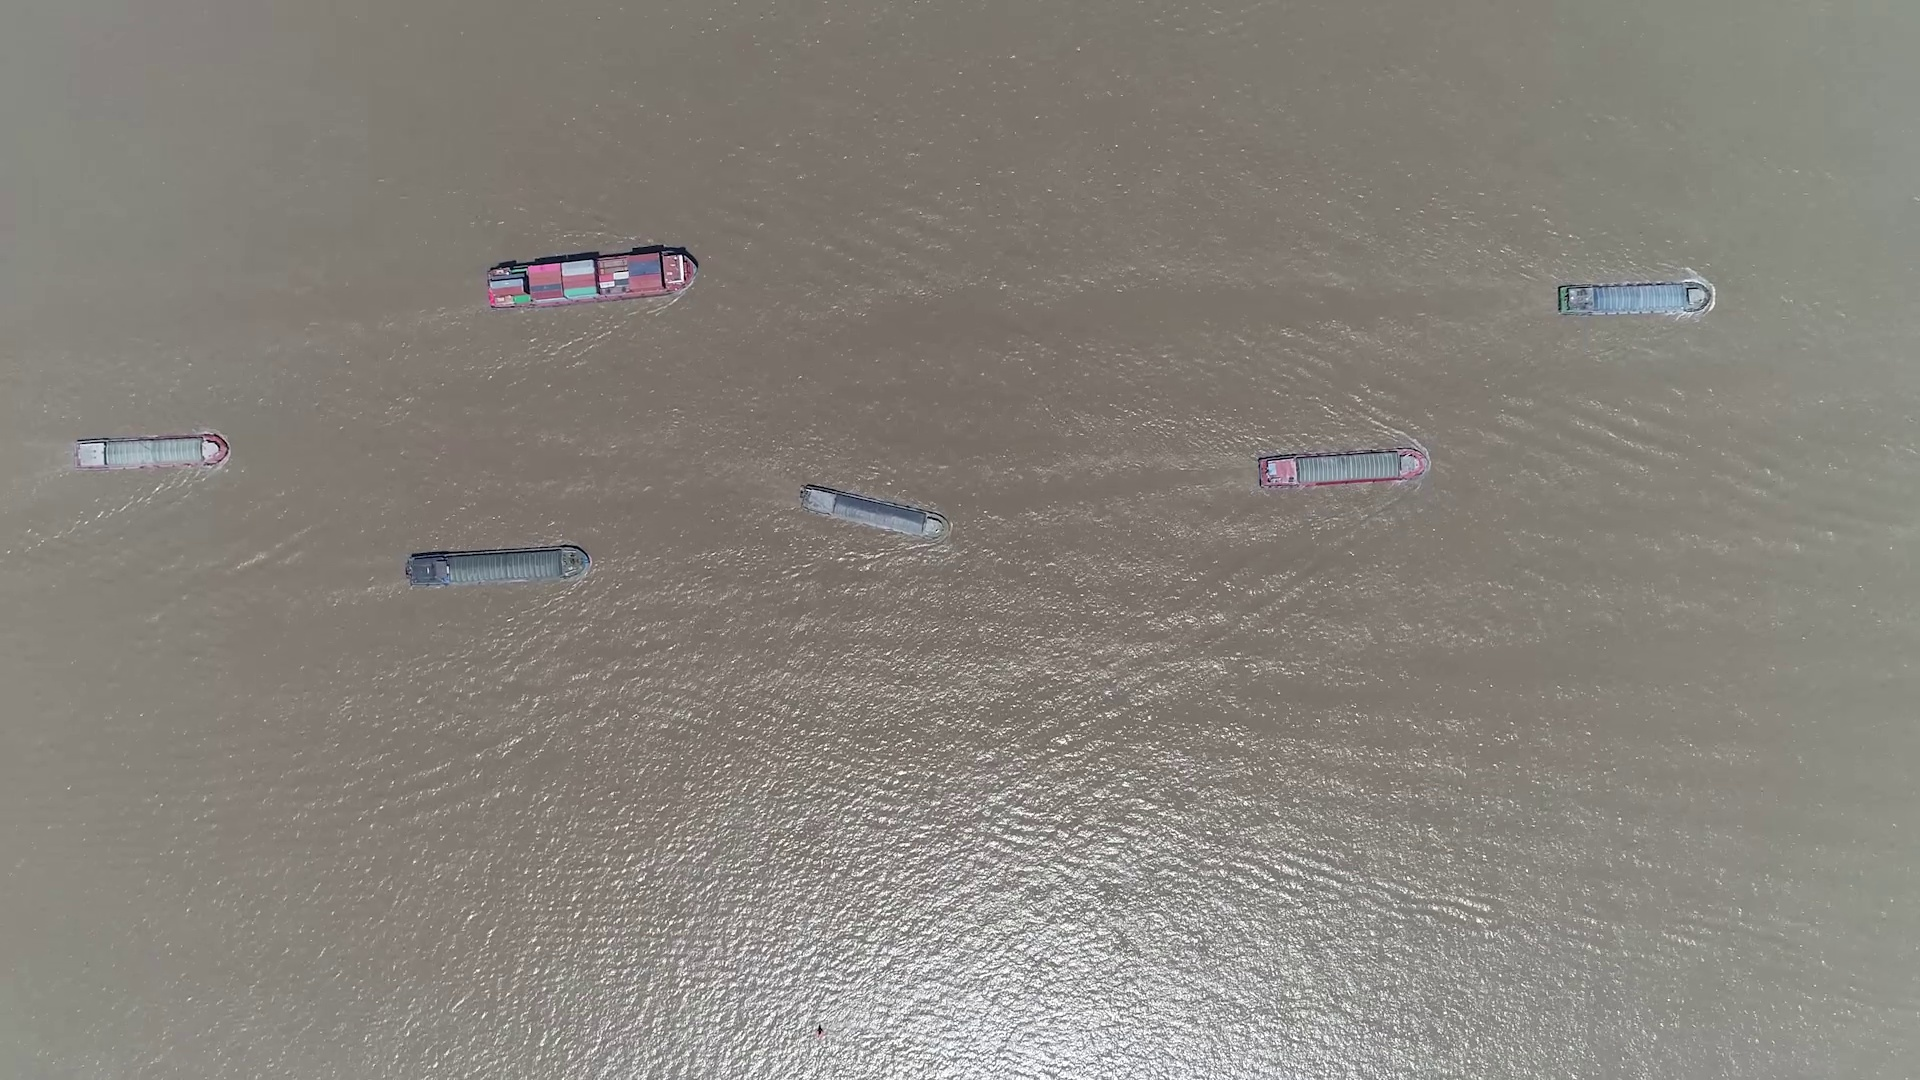ship: (487, 251, 698, 307), (799, 483, 947, 541), (406, 545, 589, 588), (1258, 444, 1429, 488), (76, 435, 228, 469), (1559, 284, 1709, 316)
